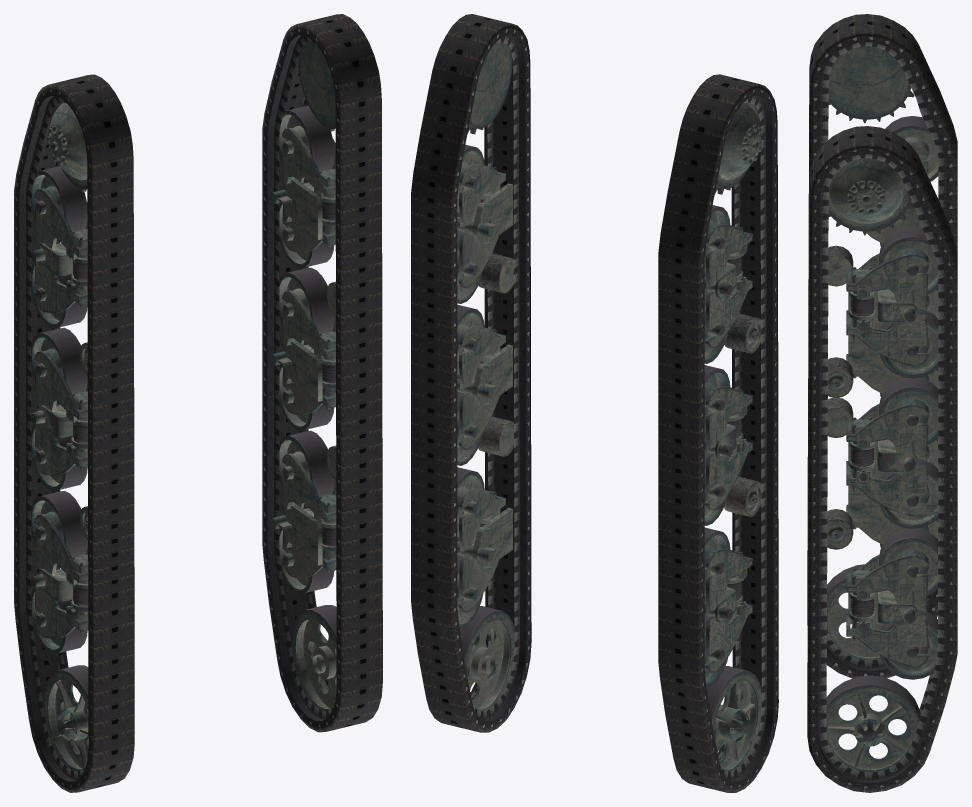
File: Chassis.glb
3 views of the same model, side by side, from view 1: azimuth 30°, elevation 25°; view 2: azimuth 150°, elevation 25°; view 3: azimuth 270°, elevation 25° (orthographic). The views are drawn at different scales.
Visible parts, largest first — view 1: set_1_group_0, set_0_group_0, set_3_group_0, set_2_group_0; view 2: set_1_group_0, set_0_group_0, set_3_group_0, set_2_group_0; view 3: set_3_group_0, set_0_group_0, set_2_group_0, set_1_group_0.
Part boxes in pixels (x1,y1,x2,y2): set_1_group_0: [14, 74, 134, 792]; set_0_group_0: [262, 14, 382, 732]; set_3_group_0: [270, 42, 336, 710]; set_2_group_0: [31, 102, 88, 770]; set_1_group_0: [658, 74, 778, 792]; set_0_group_0: [411, 14, 531, 732]; set_3_group_0: [457, 42, 514, 711]; set_2_group_0: [704, 102, 763, 771]; set_3_group_0: [826, 158, 938, 772]; set_0_group_0: [807, 126, 957, 792]; set_2_group_0: [827, 46, 938, 660]; set_1_group_0: [807, 14, 957, 678].
Size of the model in its own units: 1.96 by 4.23 by 0.888.
Materials: 4 (4 with a texture image).
